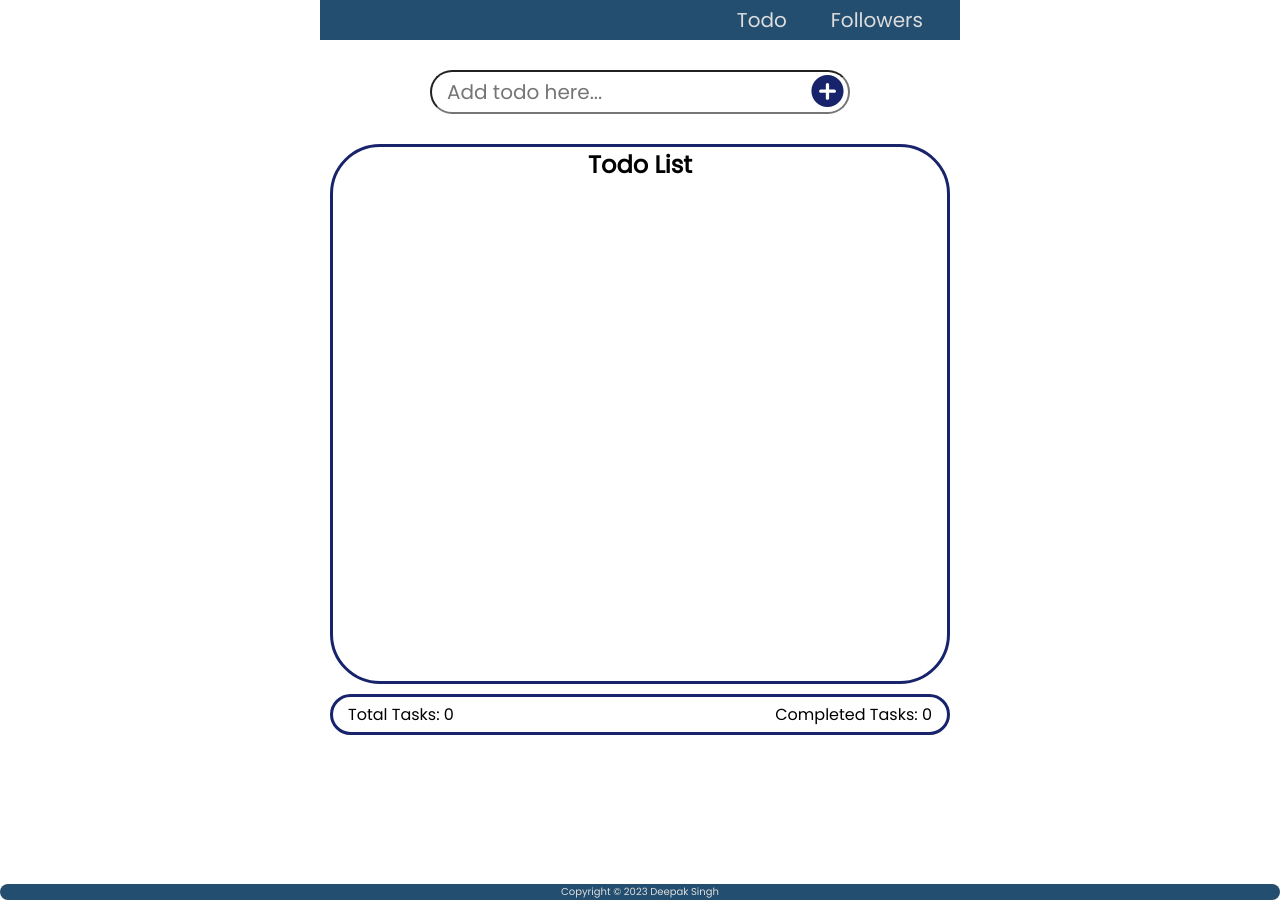
Test Application › handles server error with error boundary
Click the link "Followers" at coordinates (877, 20), box top-left (831, 6), bottom-right (923, 34)
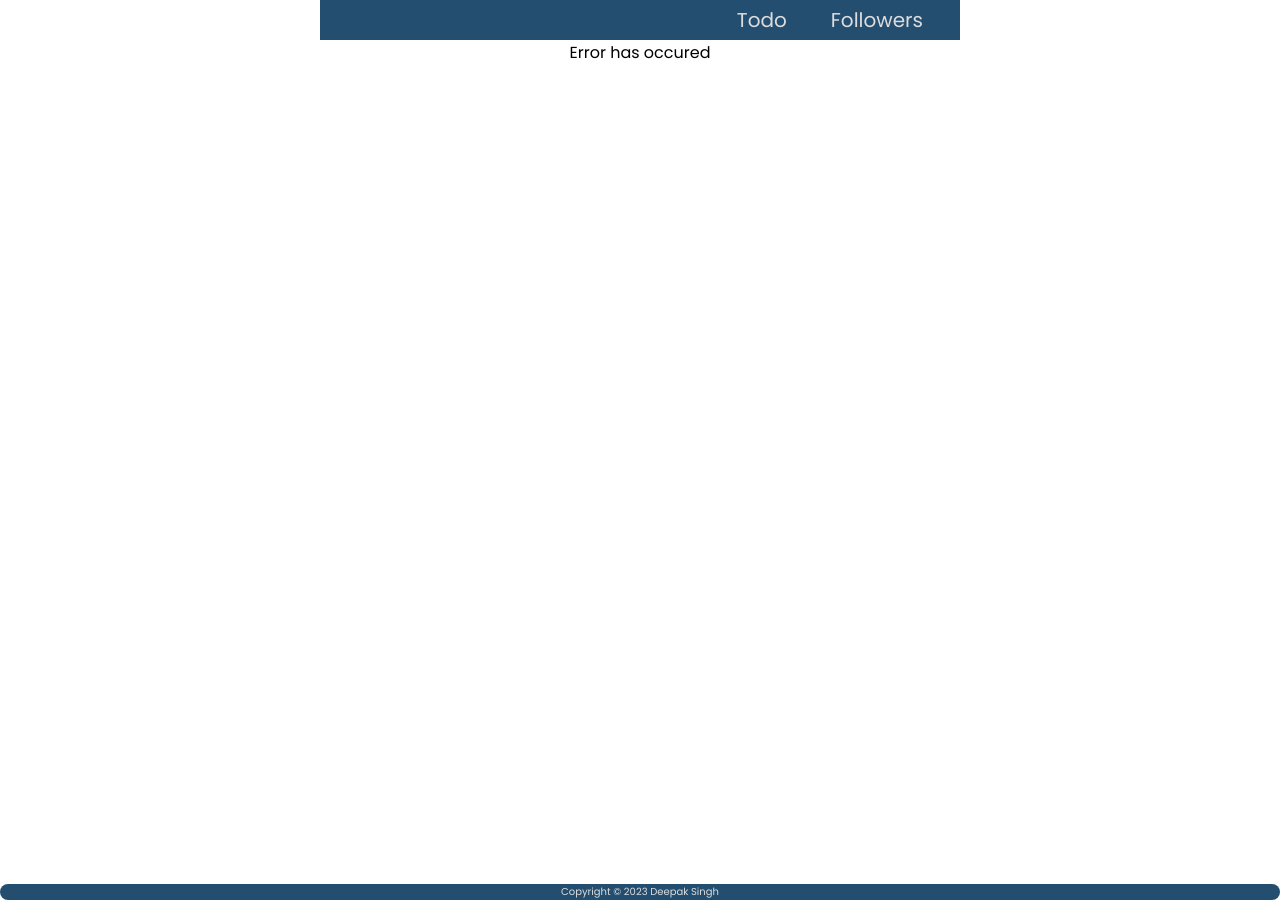
Result: the text "Error has occured" is shown at top-left (570, 41), bottom-right (710, 64)
